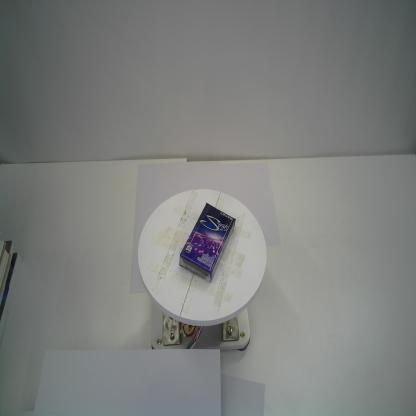Gum: (178, 201, 236, 286)
